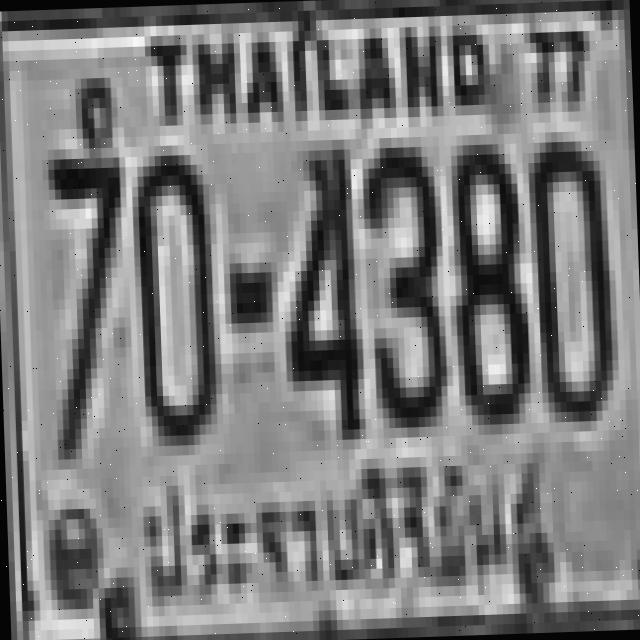0: (130, 144, 218, 436), (527, 130, 614, 412)
3: (361, 136, 442, 418)
4: (278, 139, 359, 431)
7: (42, 146, 128, 450)
8: (444, 133, 525, 415)
PrachuapKhiriKhan: (129, 448, 557, 610)
